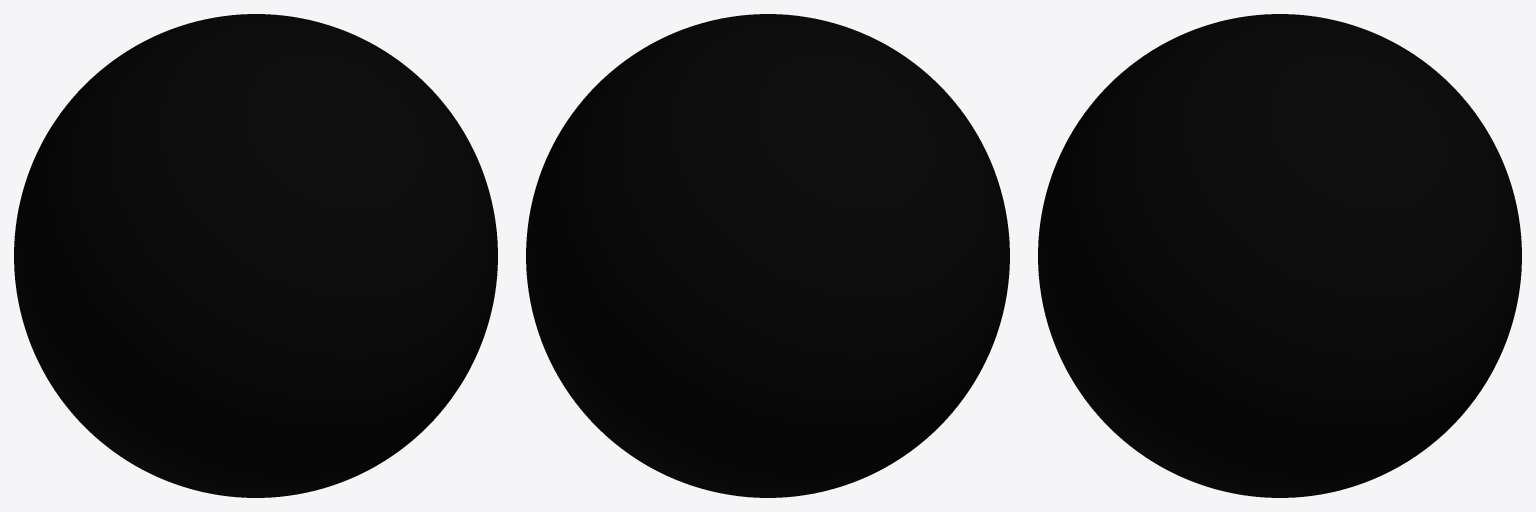
Rendered from bubble2.dae.
3 renders of one model, left to right at view 1: azimuth 30°, elevation 25°; view 2: azimuth 150°, elevation 25°; view 3: azimuth 270°, elevation 25°, orthographic.
Visible parts, largest first — view 1: Mesh; view 2: Mesh; view 3: Mesh.
Part boxes in pixels (box(x1,y1,x2,y2)): Mesh: box(14, 14, 497, 497); Mesh: box(526, 14, 1009, 497); Mesh: box(1038, 14, 1521, 497).
Bounding box in the file's own units: 1 × 1 × 0.9998.
